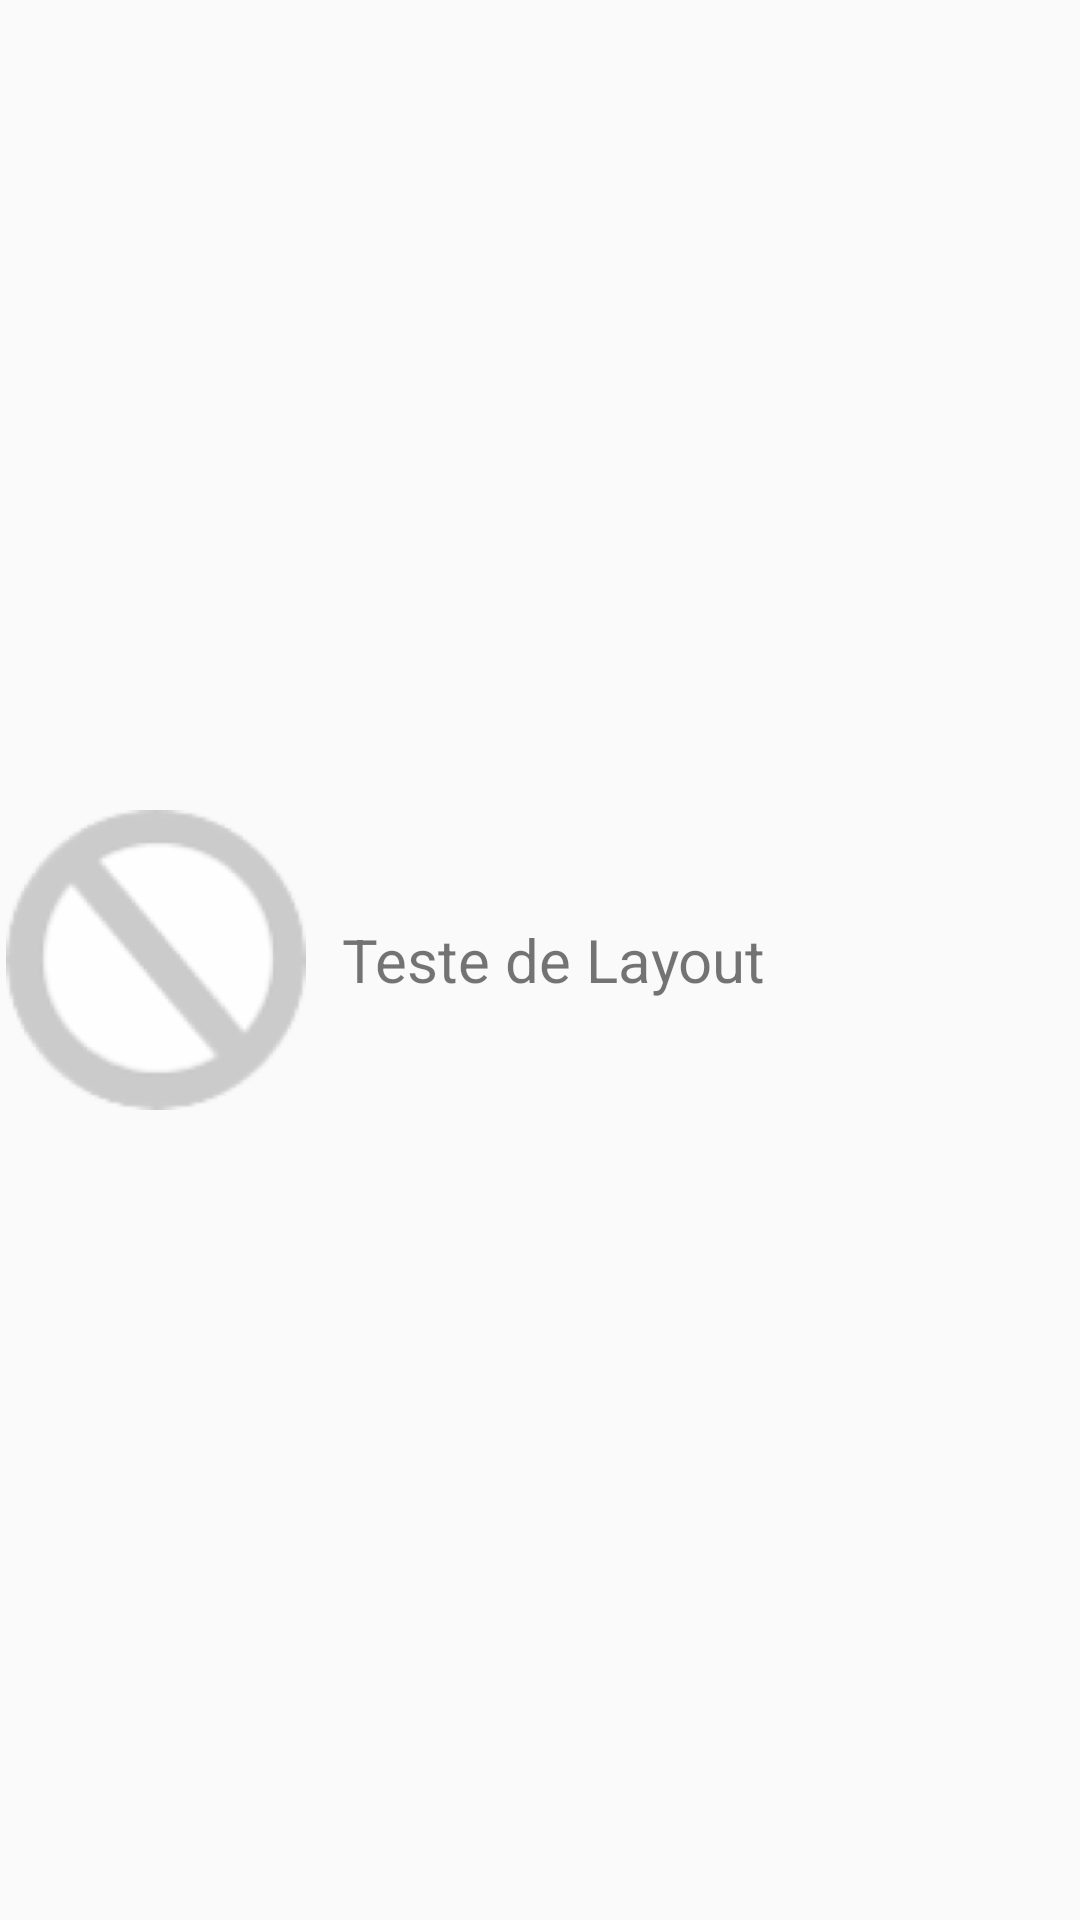

Locate icon controls on the screen. Image size 1080px×1920px, boxes as (x1,y1,x2,y2).
not found: (6,810,306,1110)
